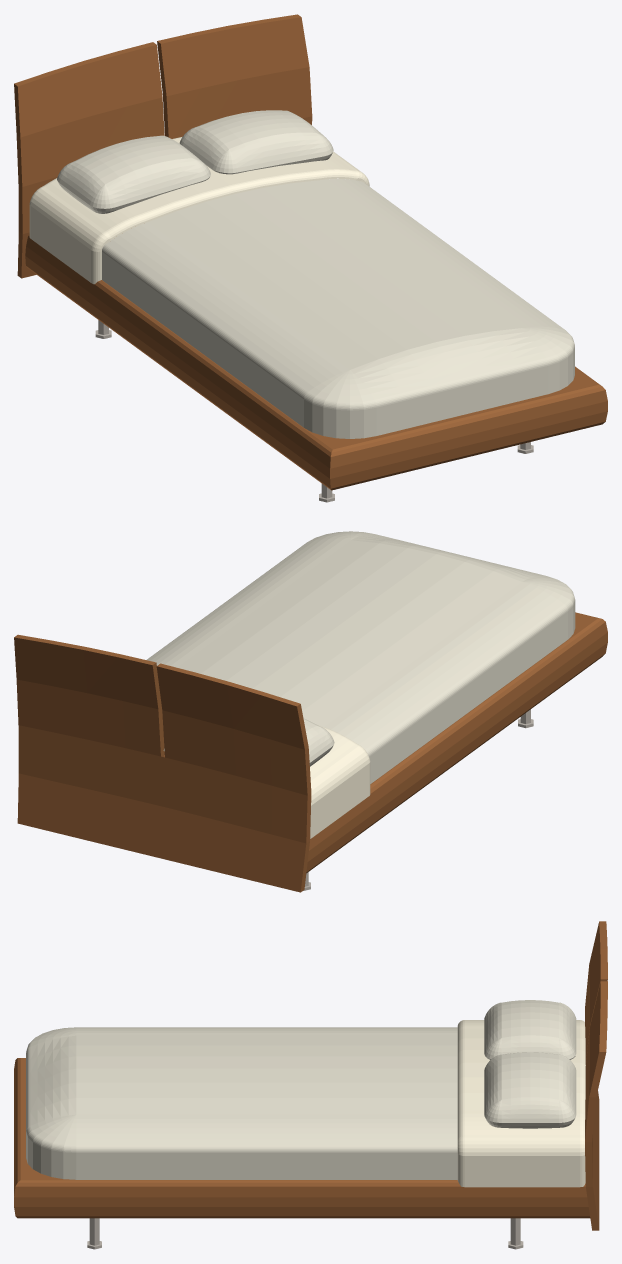
File: bed.glb
3 views of the same model, one above another, from view 1: azimuth 30°, elevation 25°; view 2: azimuth 150°, elevation 25°; view 3: azimuth 270°, elevation 25° (orthographic). The views are drawn at different scales.
Visible parts, largest first — view 1: Node; view 2: Node; view 3: Node.
Boxes of the visible parts, x1,y1,x2,y2 form: Node: (14,14,607,502); Node: (14,531,607,892); Node: (14,921,607,1249).
Bounding box in the file's own units: 43.88 × 33.77 × 82.53.
